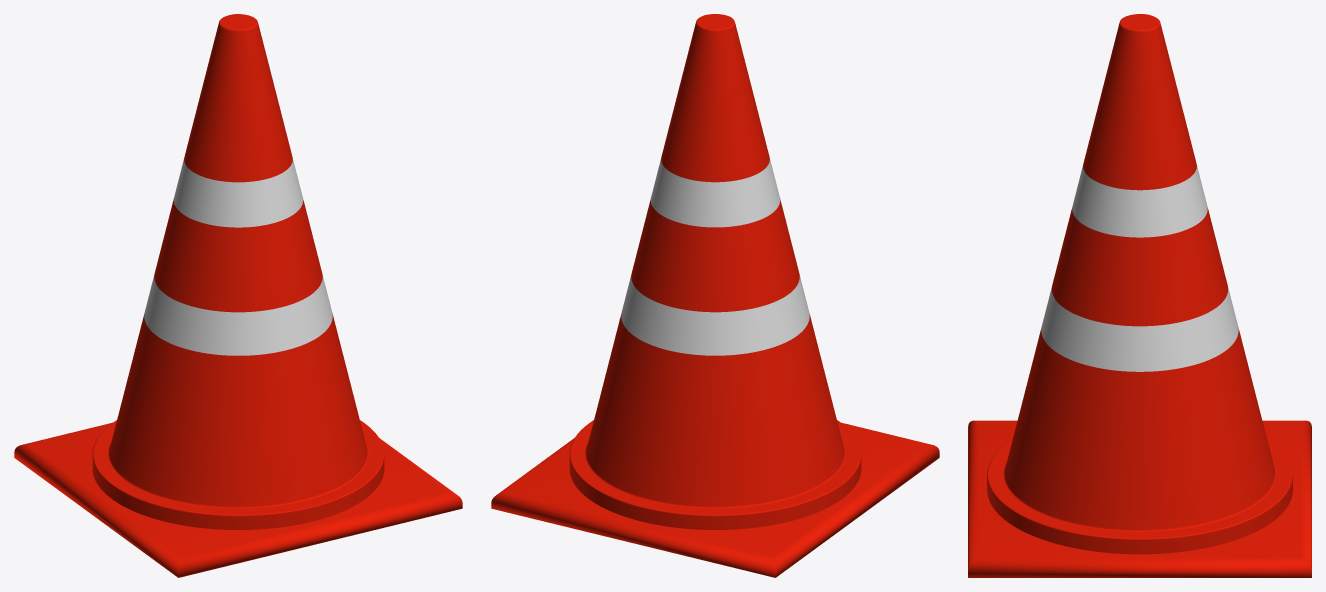
The model's file is corn.fbx.
The picture shows the model from 3 angles, left to right: view 1: azimuth 30°, elevation 25°; view 2: azimuth 150°, elevation 25°; view 3: azimuth 270°, elevation 25°; orthographic projection. The views are drawn at different scales.
Parts seen in each view (by area): view 1: 円; view 2: 円; view 3: 円.
Boxes of the visible parts, x1,y1,x2,y2 form: 円: [14, 14, 462, 577]; 円: [491, 14, 939, 577]; 円: [968, 14, 1311, 577].
Size of the model in its own units: 200 by 310 by 200.
